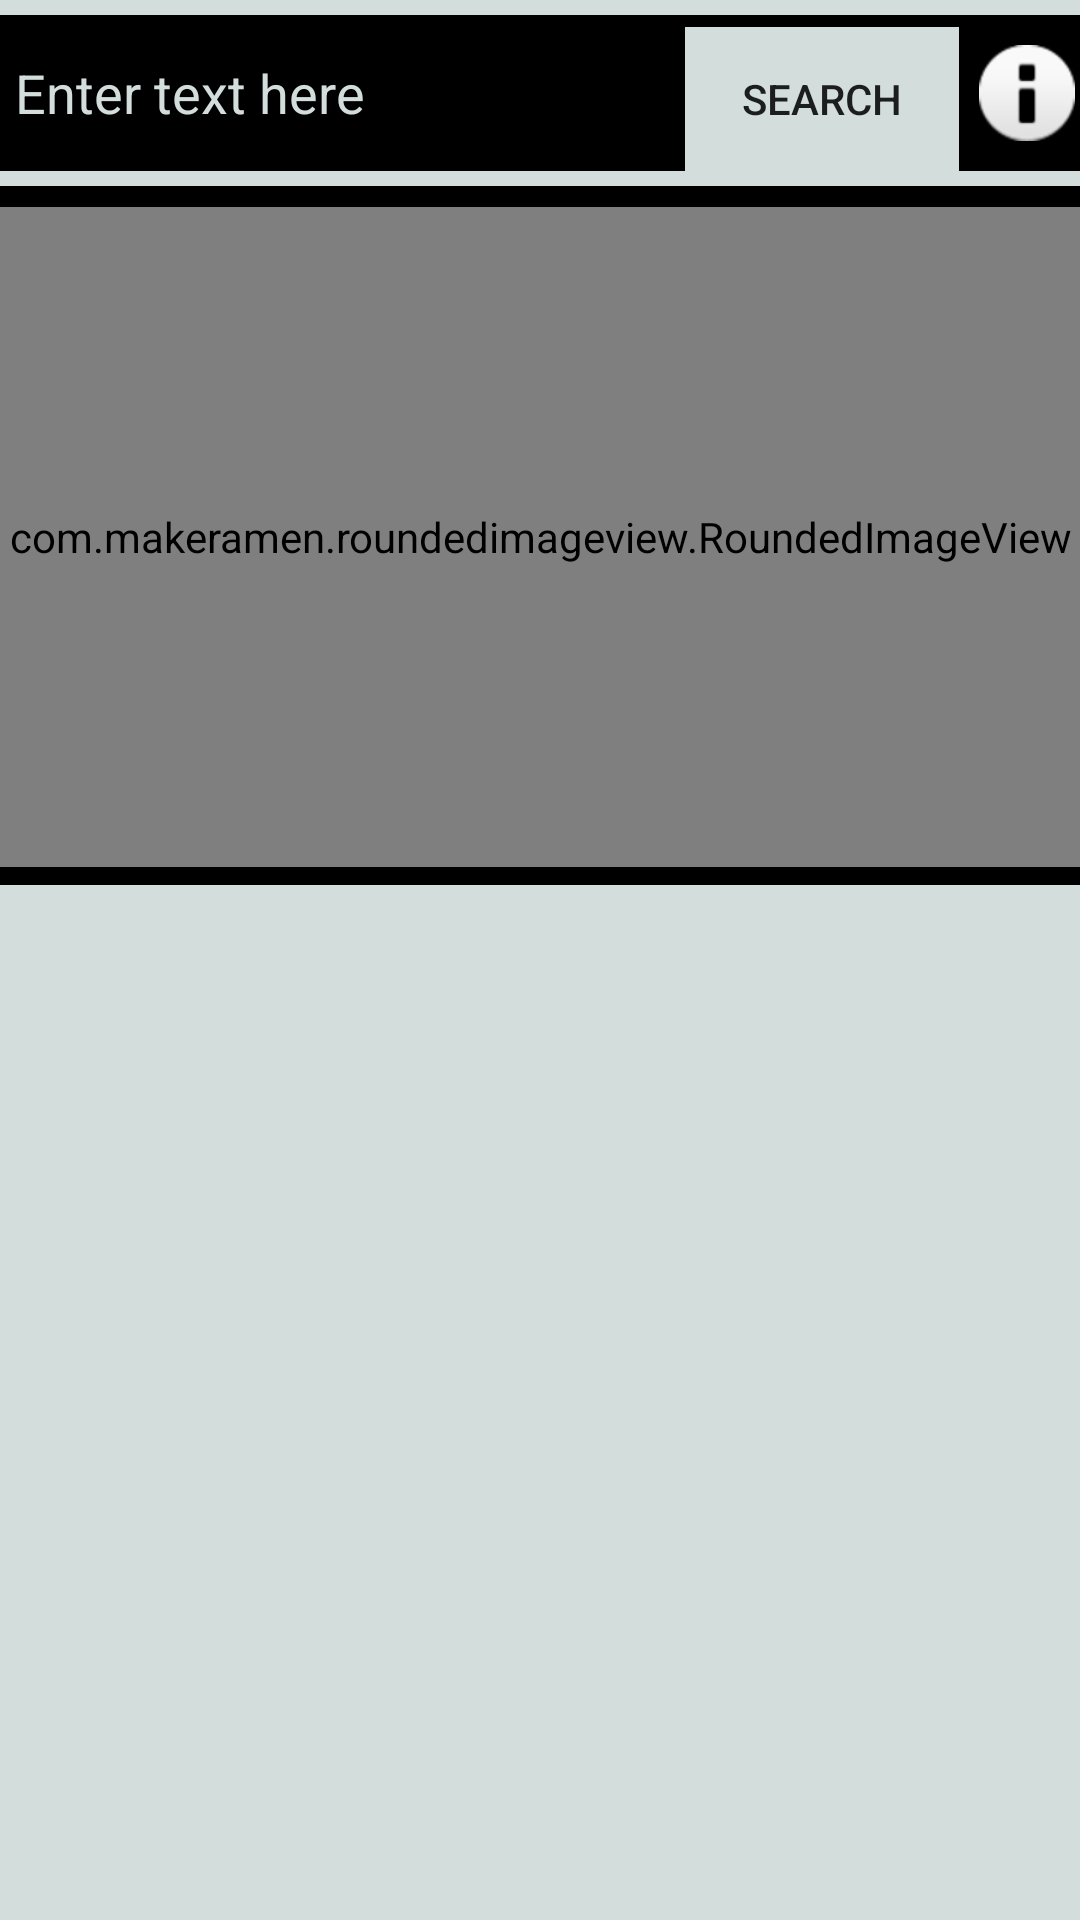

Icon bounding boxes for this 1080px x 1920px phone screenshot, format bbox(x1, y1, x2, y2):
info: bbox(979, 45, 1075, 141)
